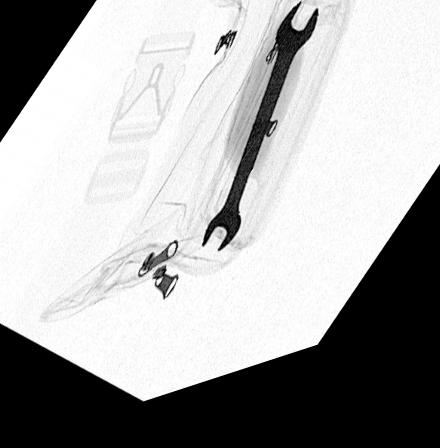Wrench: (203, 19, 319, 266)
